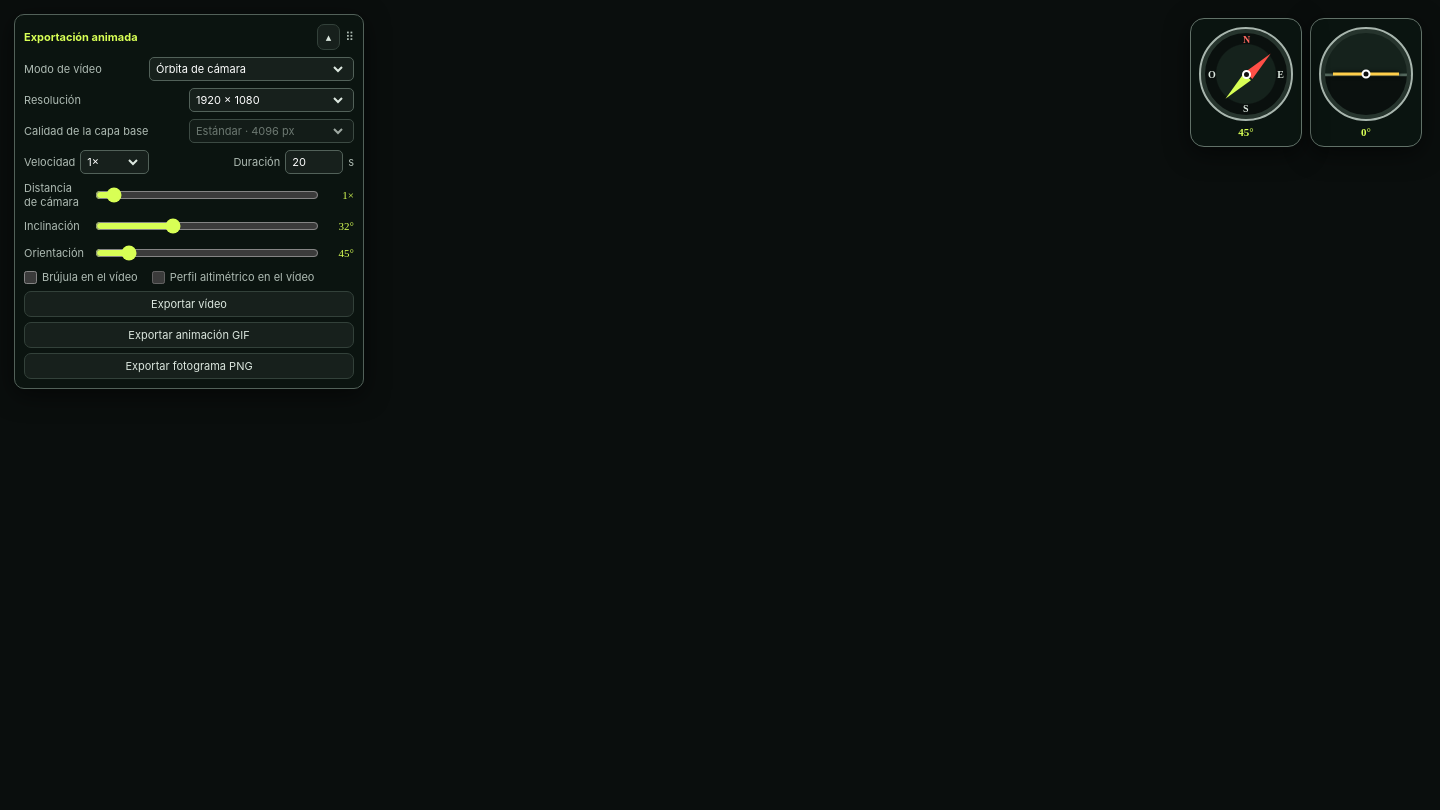
Test: exportación del visor 3D › abre la selección sin renderizar y cancelar no crea archivos
Click the button "Exportar vídeo" at point(189, 304), box [24,291,354,317]
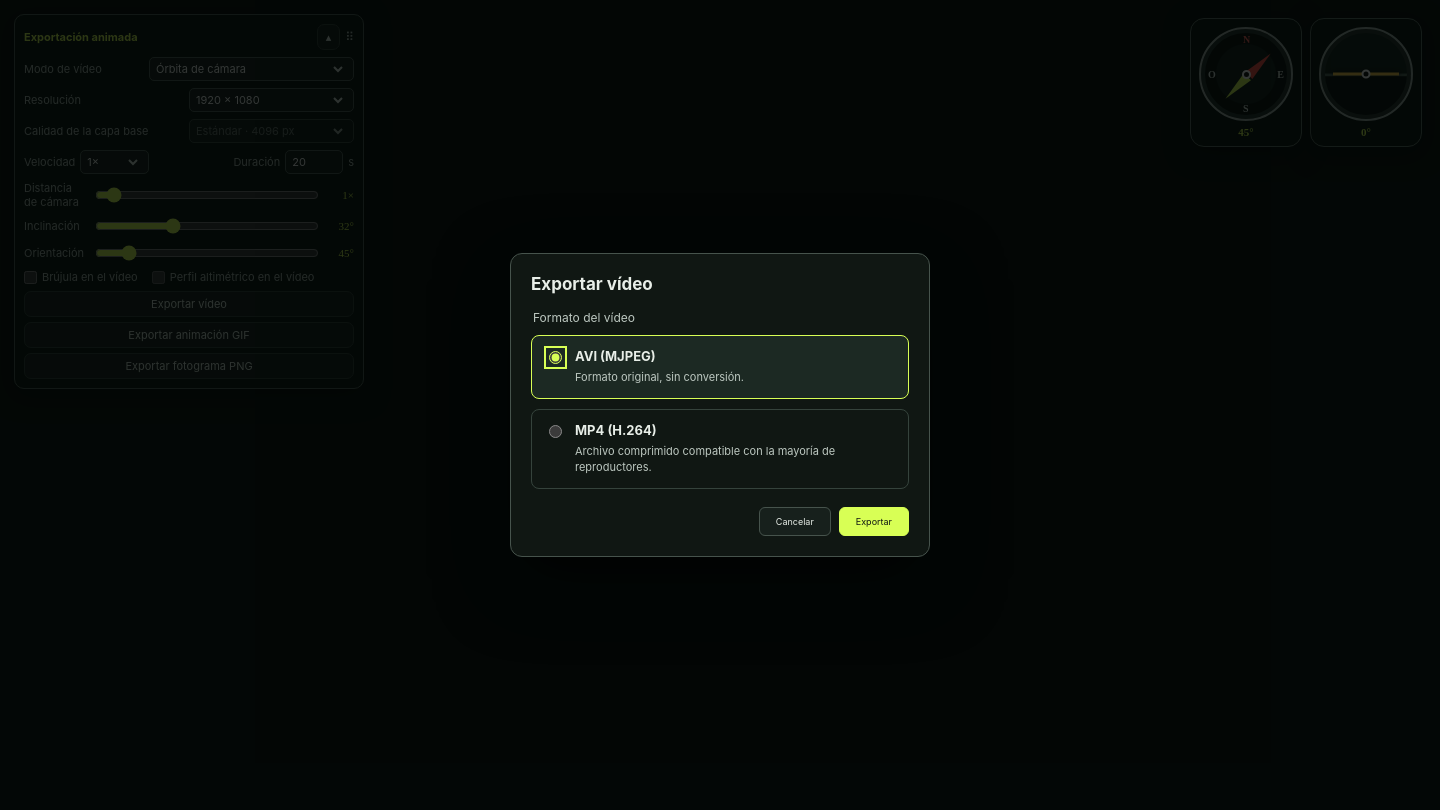
Result: the dialog is shown at [510,253,930,557]
Click the button "Cancelar" at point(795, 521), box [759,507,831,536]
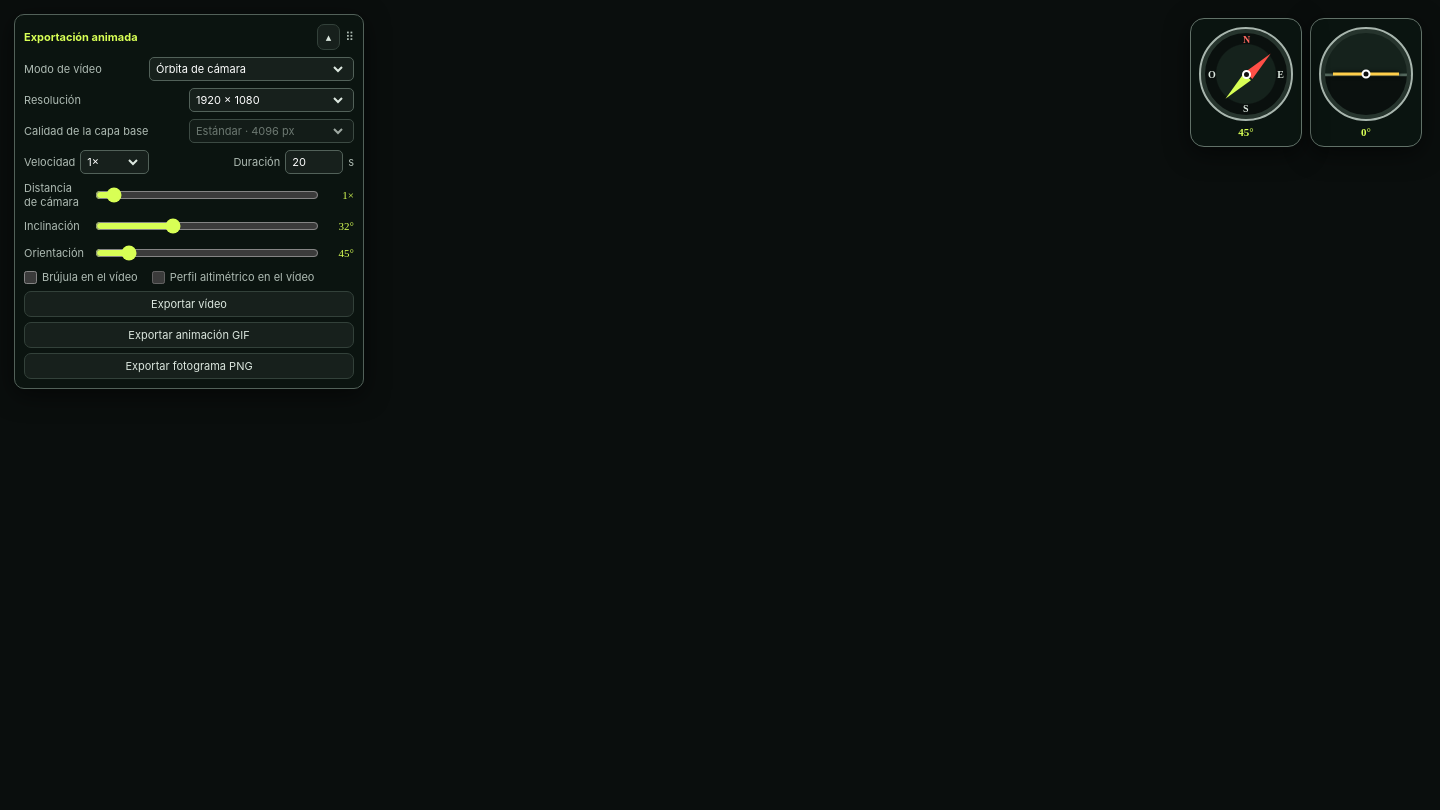
Result: the dialog is gone
